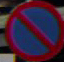No waiting: (5, 0, 61, 58)
